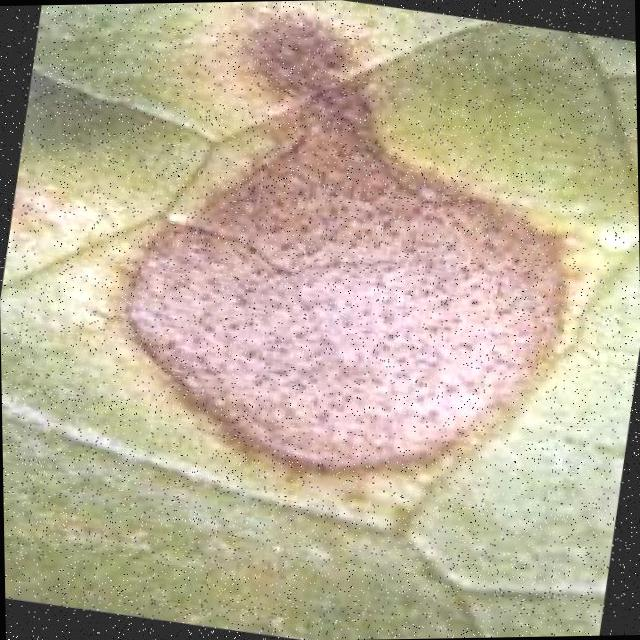Septoria_Blight_on_lettuce: (59, 0, 640, 567)
